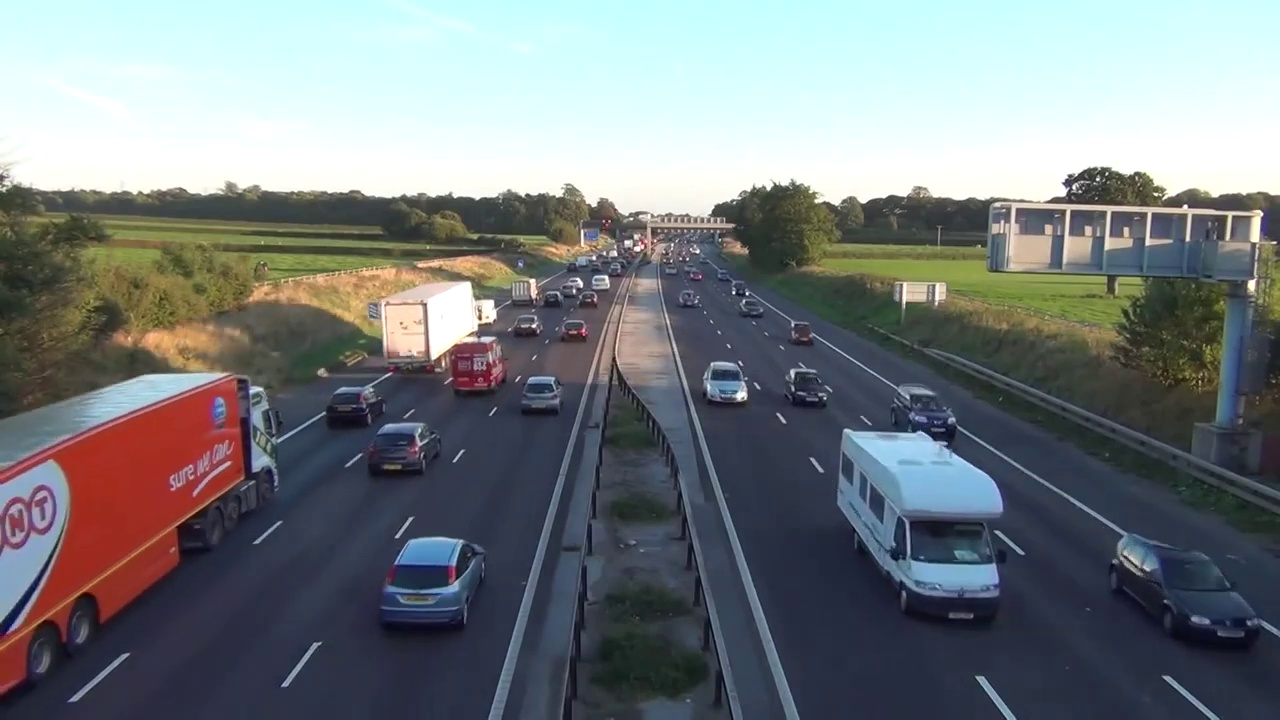bus: (1108, 533, 1260, 648), (376, 536, 489, 629), (365, 419, 443, 478), (888, 384, 955, 444), (328, 384, 385, 430), (702, 360, 749, 408), (785, 366, 826, 409), (522, 376, 565, 414), (512, 314, 539, 339), (789, 321, 814, 346), (562, 320, 589, 343), (737, 298, 763, 320), (677, 289, 704, 309), (577, 293, 601, 309), (543, 288, 562, 307)
car: (2, 373, 282, 720), (384, 281, 481, 376), (511, 281, 541, 305)
lorry: (476, 300, 500, 333)
minibus: (836, 428, 1001, 631), (453, 337, 508, 399)
